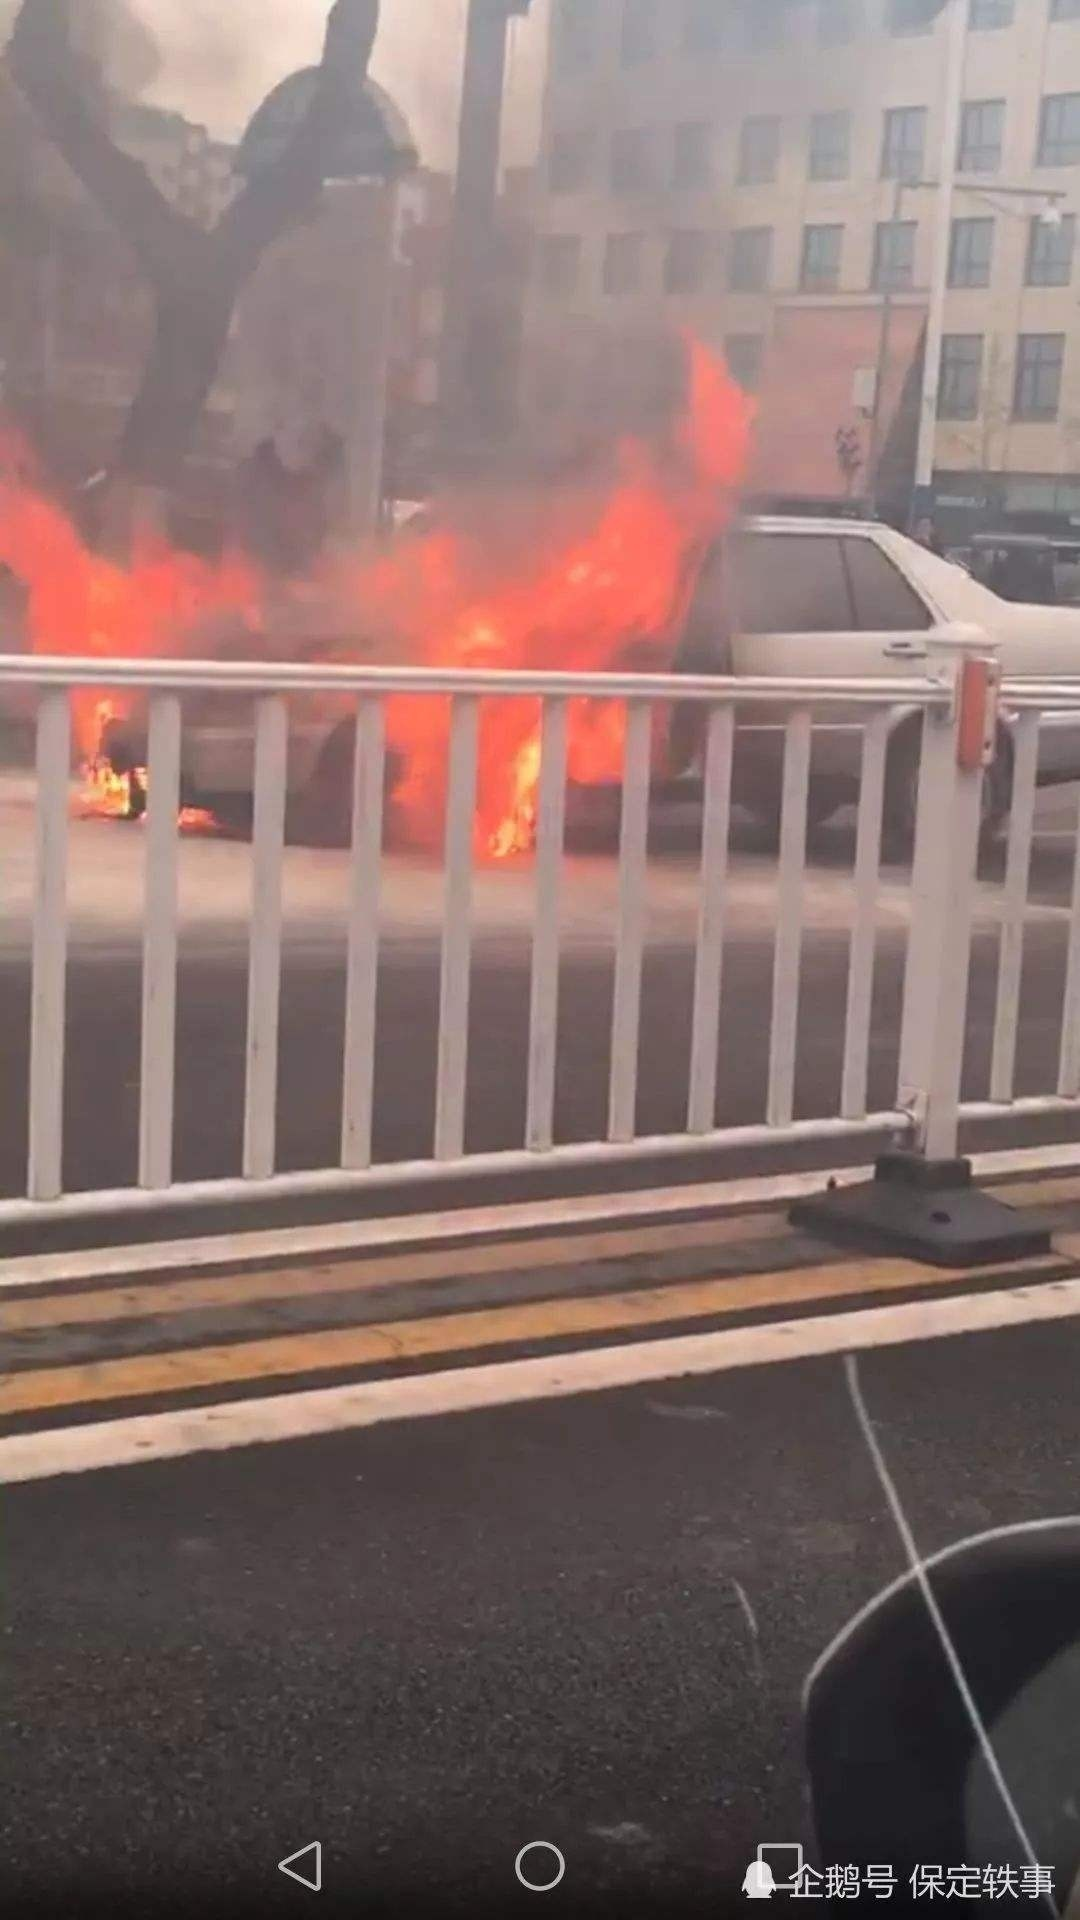fire: (17, 415, 752, 880)
